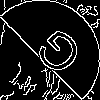G: (25, 25, 86, 86)
